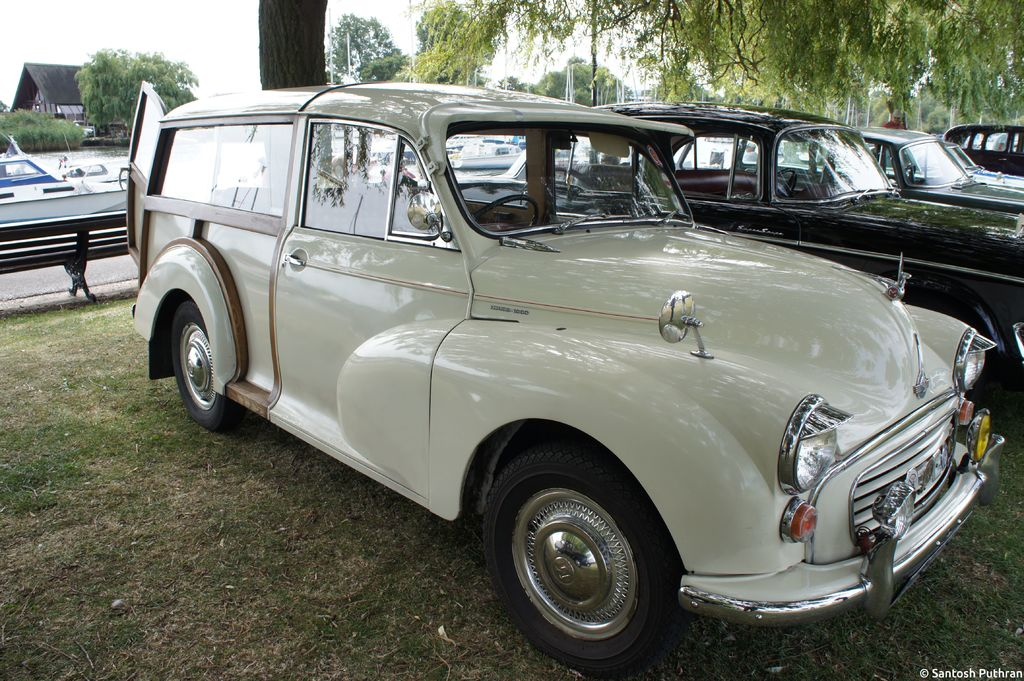Tree: (327, 0, 1024, 132), (71, 46, 201, 128), (258, 0, 327, 90), (0, 97, 85, 151)
